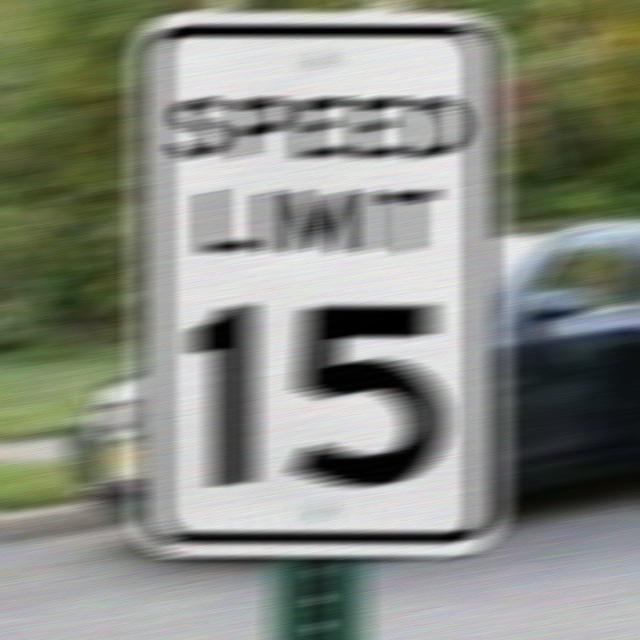speedLimit15: (125, 15, 504, 560)
